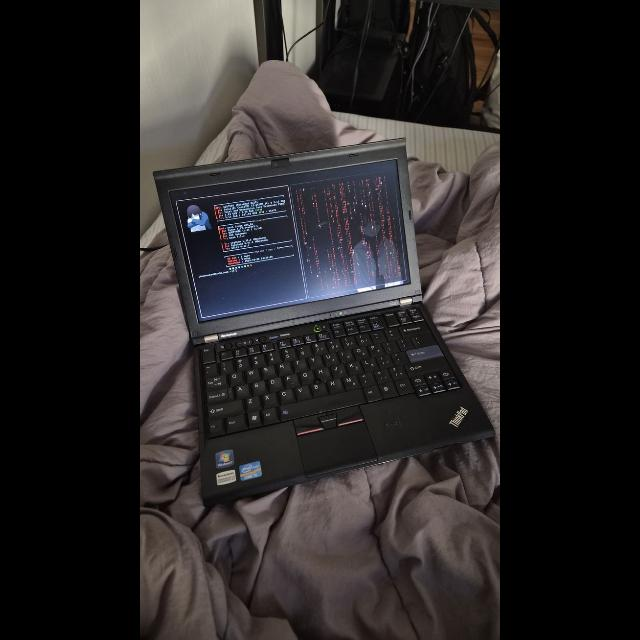laptop: (154, 139, 494, 505)
